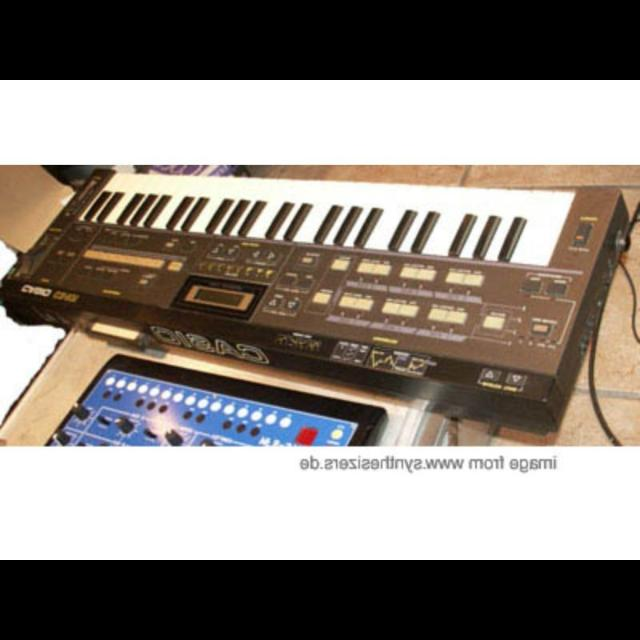Electronic-Keyboard: (23, 171, 621, 383)
